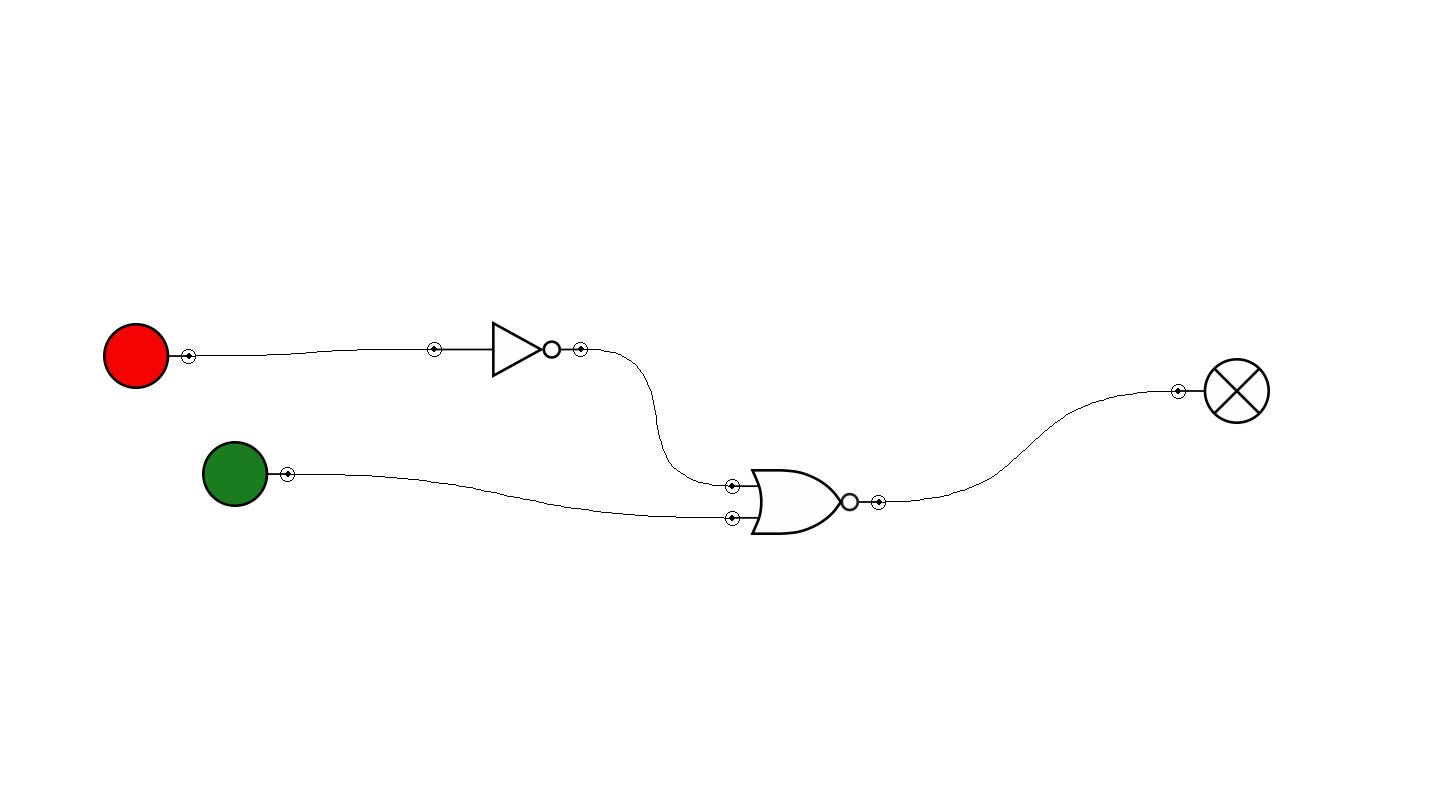bulb: (1171, 358, 1270, 424)
nor: (725, 469, 886, 535)
not: (427, 321, 588, 378)
switch_False: (103, 323, 196, 389)
switch_True: (202, 441, 295, 507)
